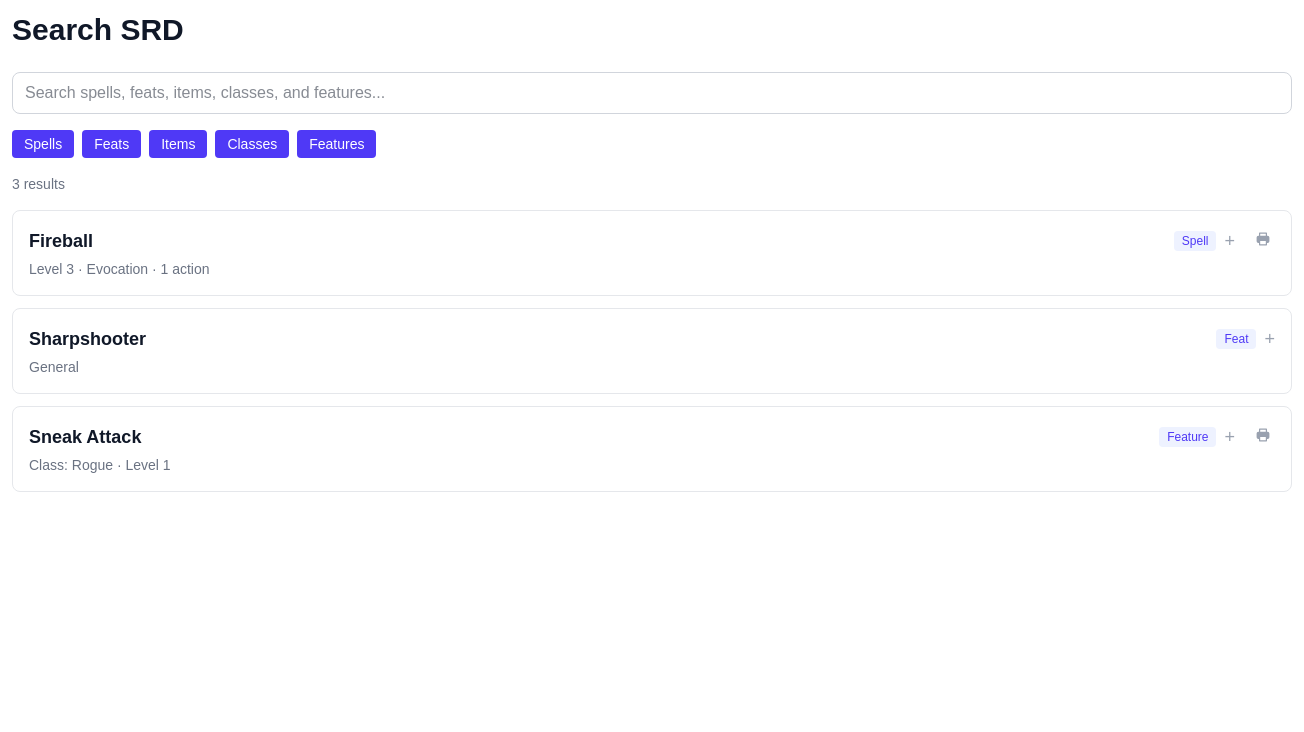
Test case: SrdSearchPage › expand on click — feat › shows feat description and benefits as bullets
What coordinates should you click on to do the following:
click the heading "Sharpshooter"
I would click on:
 (88, 339)
Its box is [29,329,146,349].
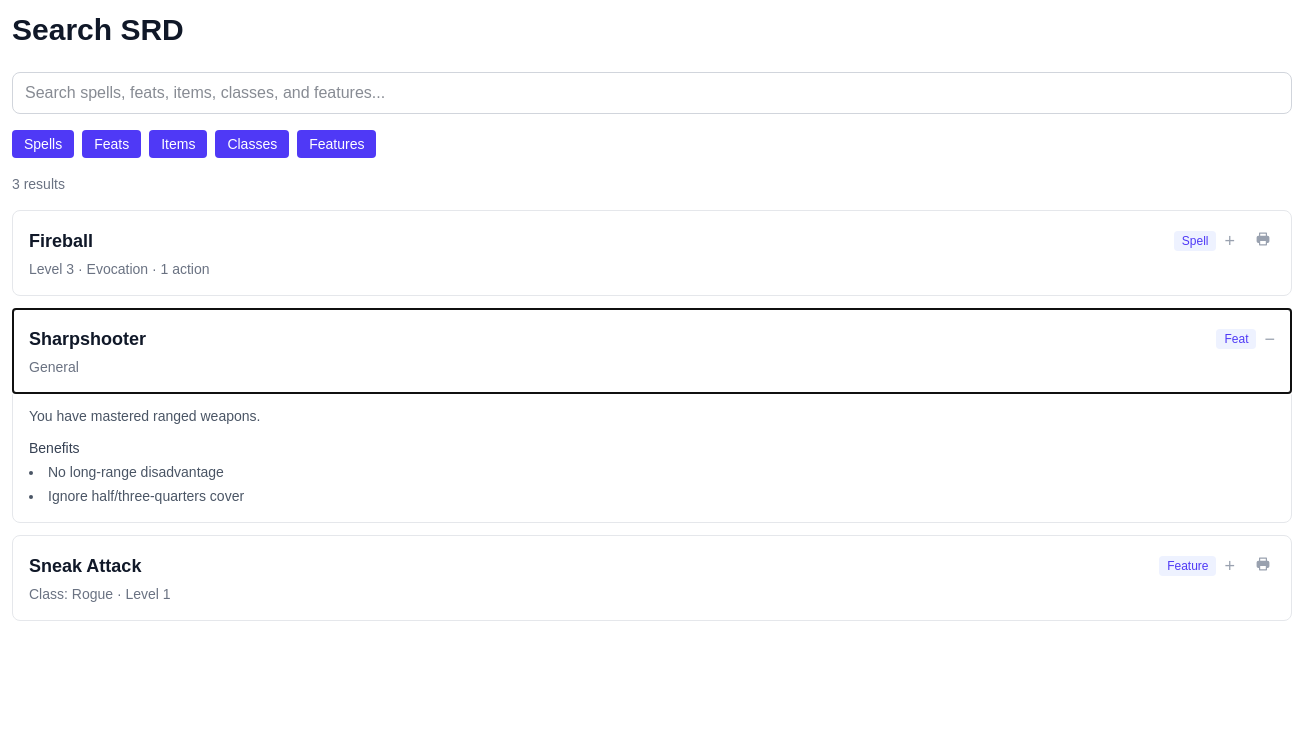
Expected: the text "You have mastered ranged weapons." is shown, [29,408,260,424]
Expected: the list item "No long-range disadvantage" is shown, [48,464,224,480]
Expected: the list item "Ignore half/three-quarters cover" is shown, [48,488,244,504]
